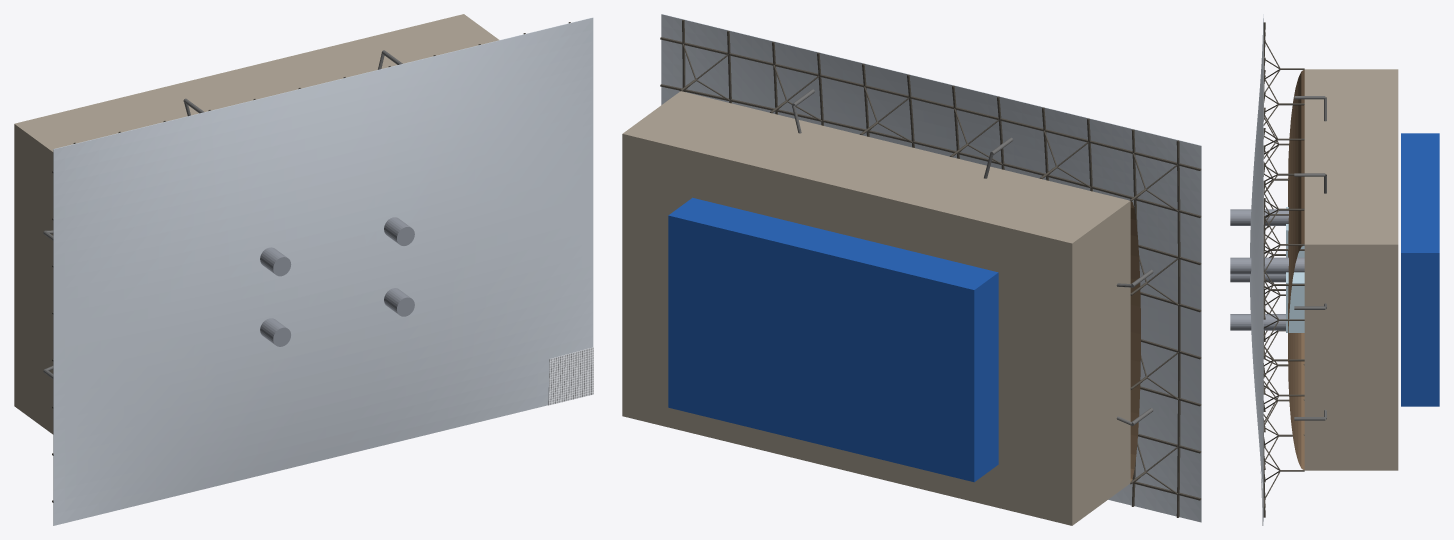
Rendered from zenith_plate.obj.
3 views of the same model, side by side, from view 1: azimuth 30°, elevation 25°; view 2: azimuth 150°, elevation 25°; view 3: azimuth 270°, elevation 25° (orthographic). The views are drawn at different scales.
Visible parts, largest first — view 1: plate_slab, program_sunk, stack_flush, cells_emitter, cells_mirror; view 2: program_sunk, pit_water, plate_slab, structure_grillage, vault_earth, structure_branches; view 3: program_sunk, pit_water, vault_earth, plate_slab, stack_flush, structure_branches, lightwell_glass, structure_trunks, structure_grillage, earthtube_intake.
Part boxes in pixels (x1,y1,x2,y2): plate_slab: (53,17,593,525); program_sunk: (14,14,499,434); stack_flush: (260,217,414,346); cells_emitter: (549,348,593,404); cells_mirror: (548,347,593,405); program_sunk: (622,91,1130,525); pit_water: (668,197,998,482); plate_slab: (661,14,1201,522); structure_grillage: (660,19,1201,517); vault_earth: (1130,201,1140,481); structure_branches: (682,43,1178,494); program_sunk: (1304,69,1398,470); pit_water: (1401,133,1439,406); vault_earth: (1288,70,1304,469); plate_slab: (1250,14,1263,525); stack_flush: (1230,209,1304,330); structure_branches: (1263,42,1280,498); lightwell_glass: (1286,207,1304,332); structure_trunks: (1270,68,1304,471); structure_grillage: (1263,22,1265,517); earthtube_intake: (1294,96,1325,420).
Bounding box in the file's own units: 72 × 48 × 30.26.
